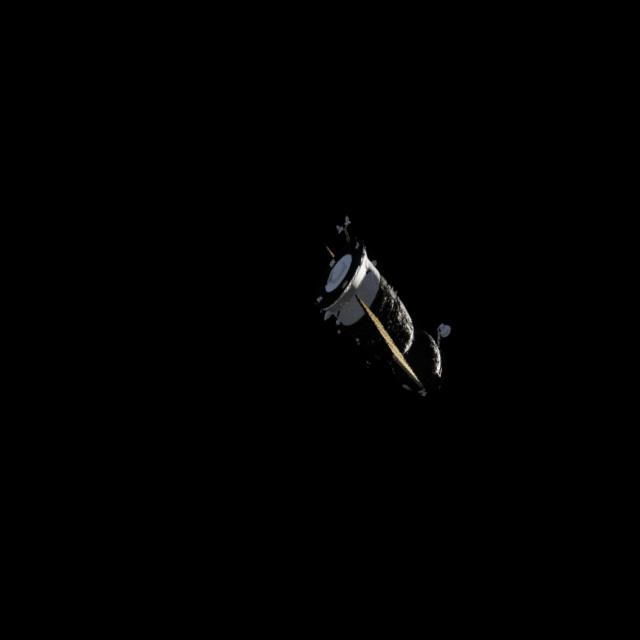Satellites revolving around earth: (298, 212, 467, 405)
